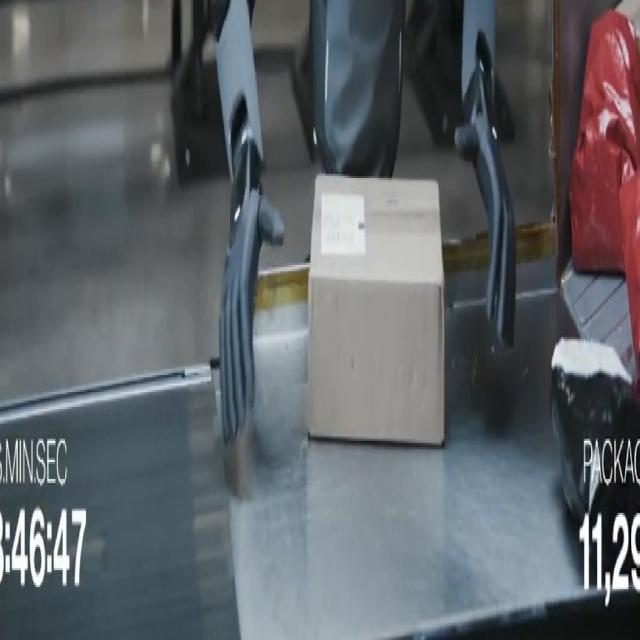package: (308, 176, 444, 445), (551, 340, 639, 570), (570, 11, 639, 273), (619, 172, 639, 370), (616, 0, 639, 40)
